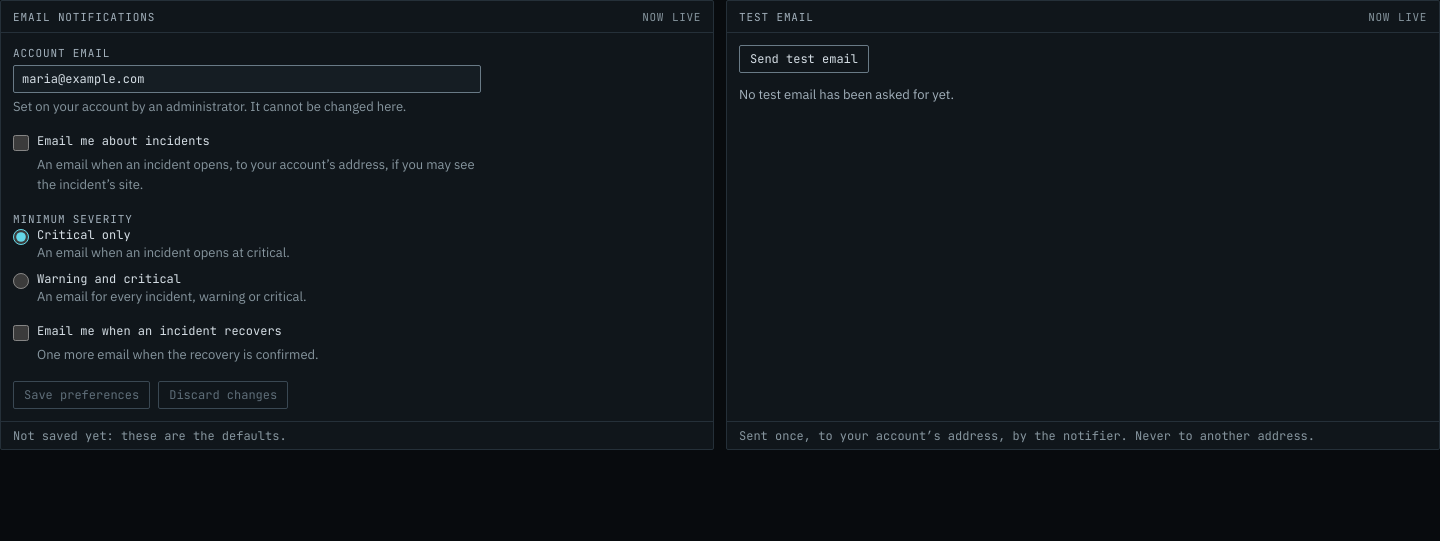
Test: saving the preferences › says a refused change is refused, and a lost connection is not known to have saved
Click the checkbox labelled "Email me about incidents".
click(21, 143)  # box [13,135,29,151]
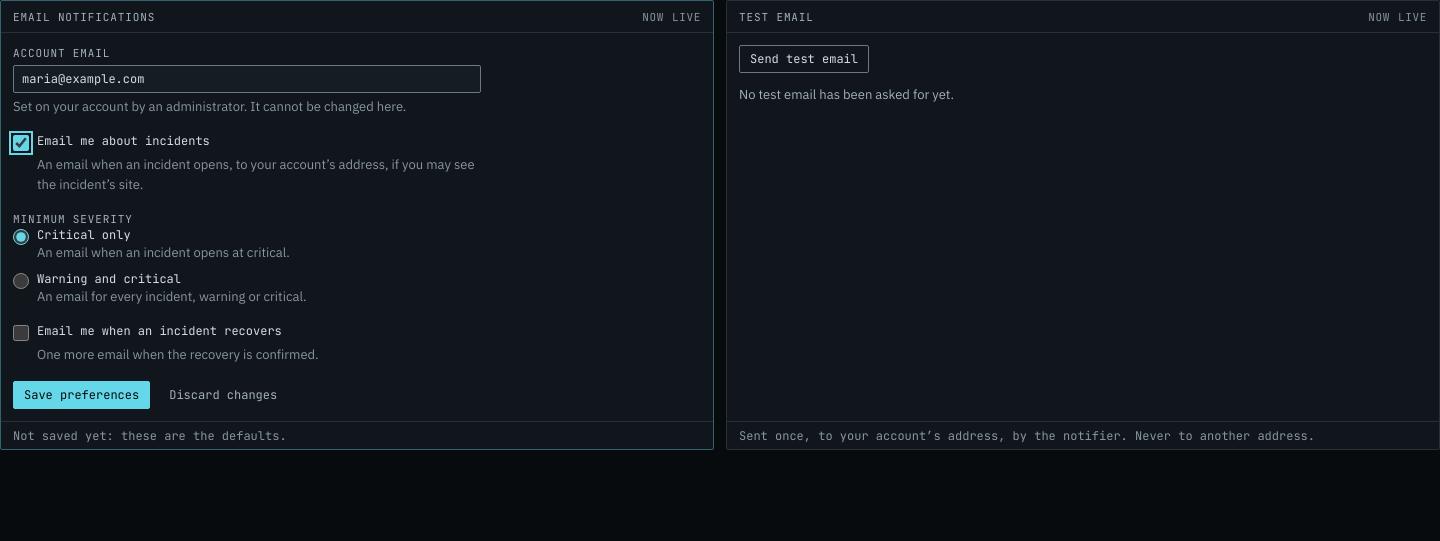
Click the button "Save preferences".
click(82, 395)  # box [13,381,150,409]
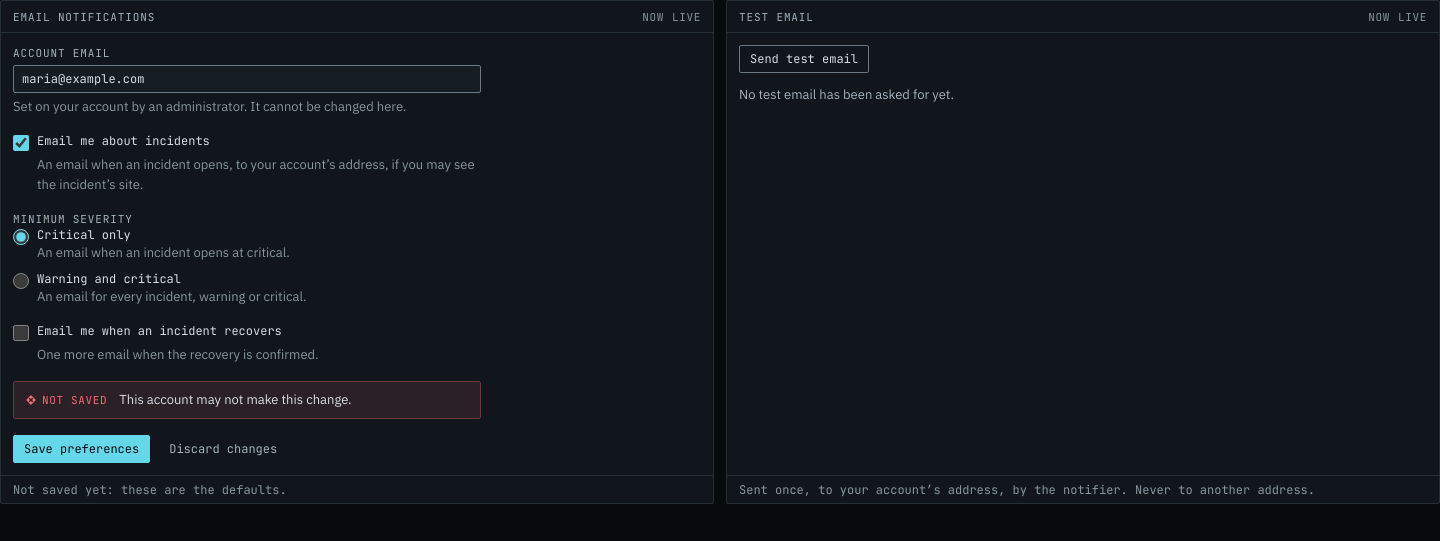
Expected: the message shows "This account may not make this change.", [119,391,352,408]
Click the button "Save preferences".
click(82, 449)  # box [13,435,150,463]
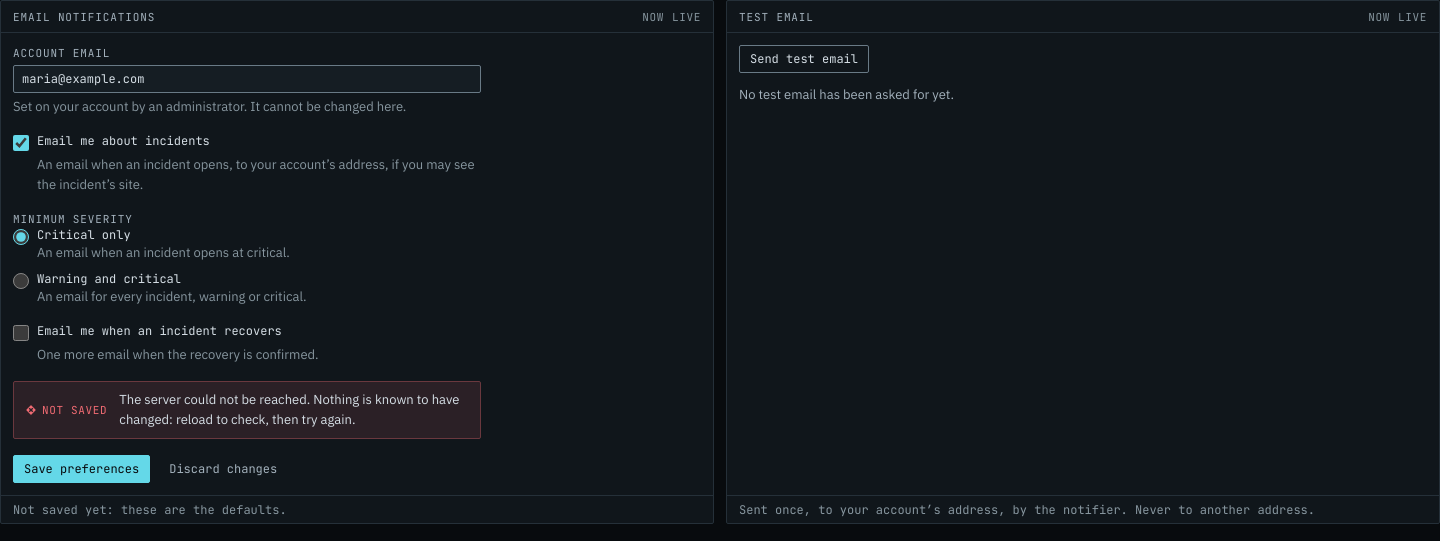
Expected: the message shows "Nothing is known to have changed", [119,391,459,428]
